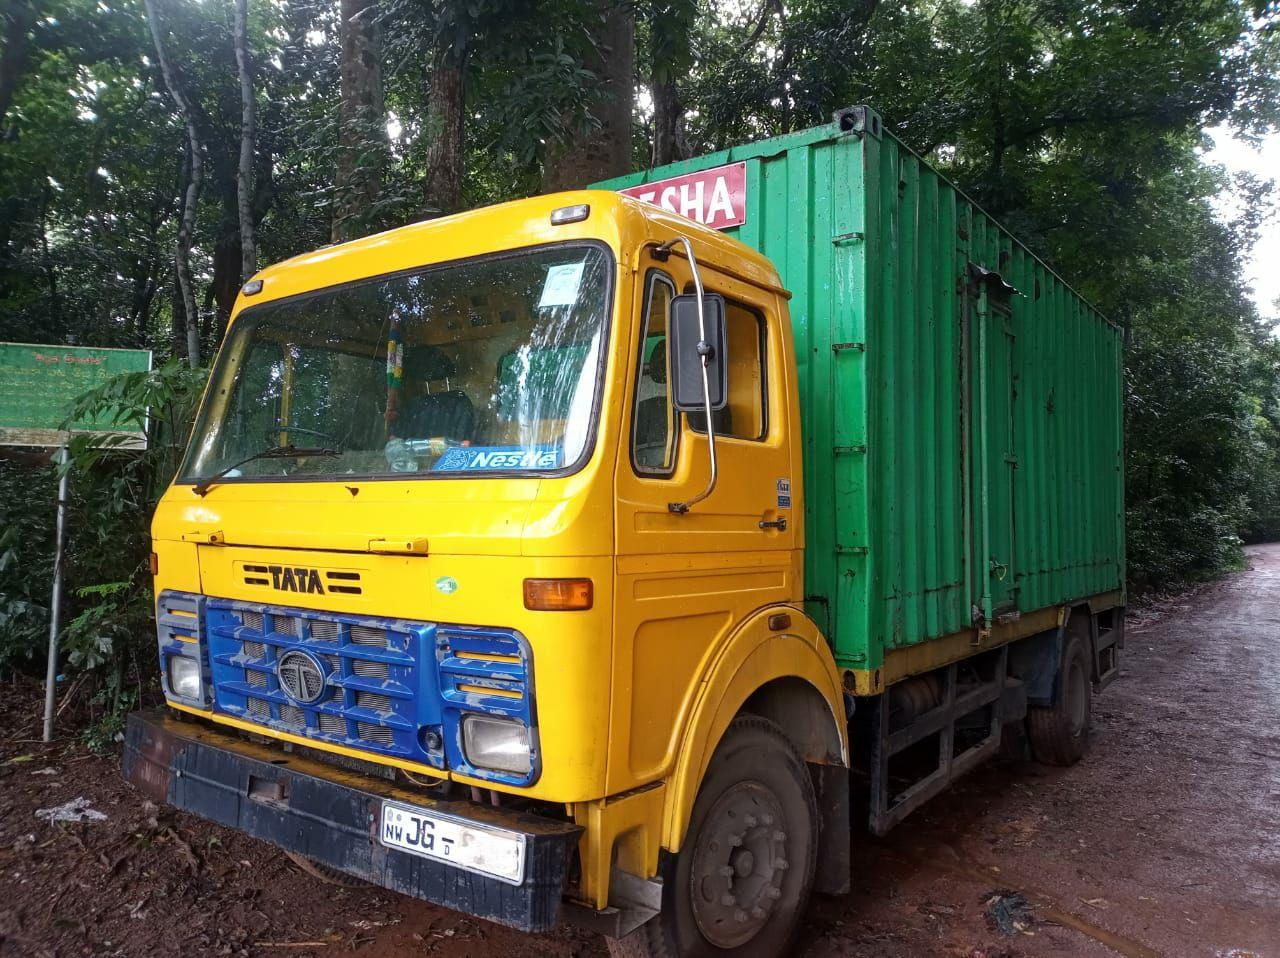truck: (120, 104, 1126, 958)
